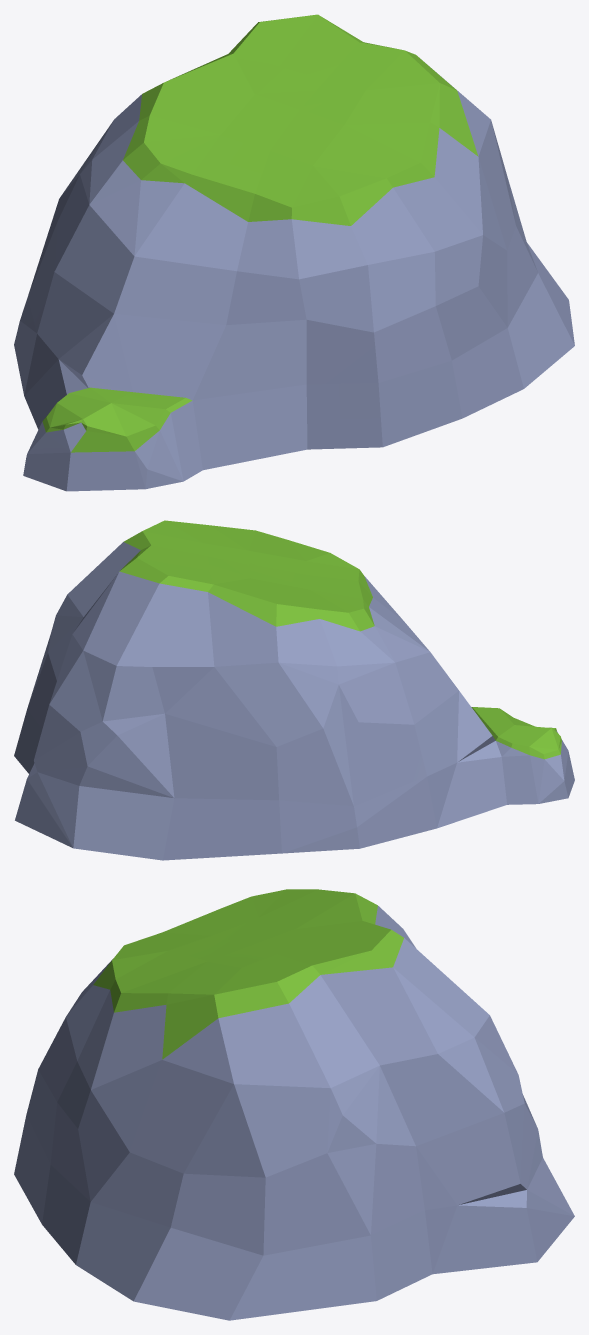
The model's file is Rock_5.fbx.
The picture shows the model from 3 angles, top to bottom: view 1: azimuth 30°, elevation 25°; view 2: azimuth 150°, elevation 25°; view 3: azimuth 270°, elevation 25°; orthographic projection. The views are drawn at different scales.
Visible parts, largest first — view 1: Rock_5; view 2: Rock_5; view 3: Rock_5.
Part boxes in pixels (x1=…): Rock_5: x1=14, y1=14, x2=574, y2=491; Rock_5: x1=14, y1=520, x2=574, y2=860; Rock_5: x1=14, y1=889, x2=574, y2=1320.
Size of the model in its own units: 11.04 by 5.04 by 8.98.
